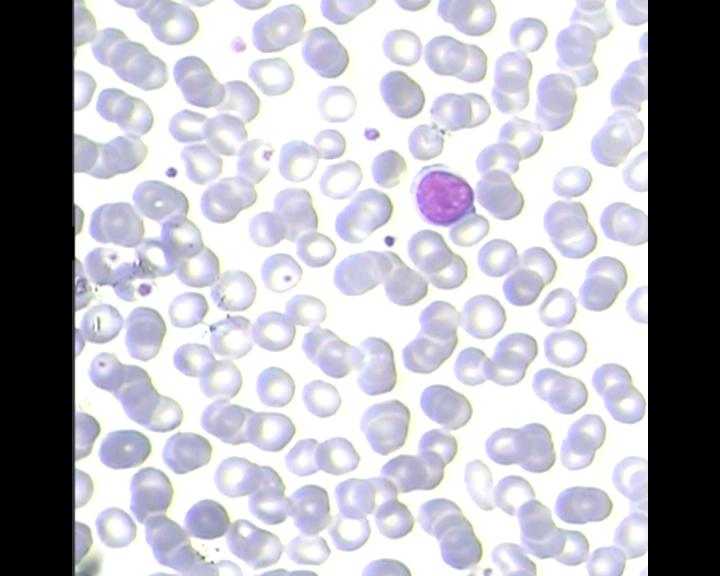lymp: (401, 161, 480, 229)
